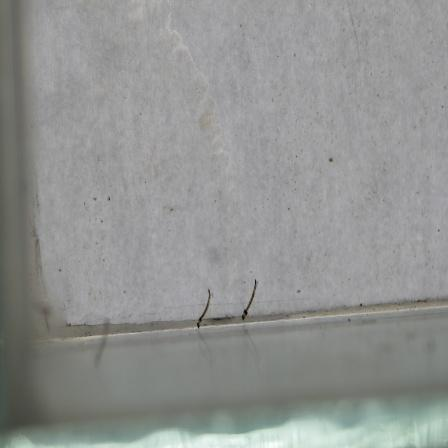Jentik-Nyamuk: (238, 276, 261, 323), (194, 285, 217, 332)
